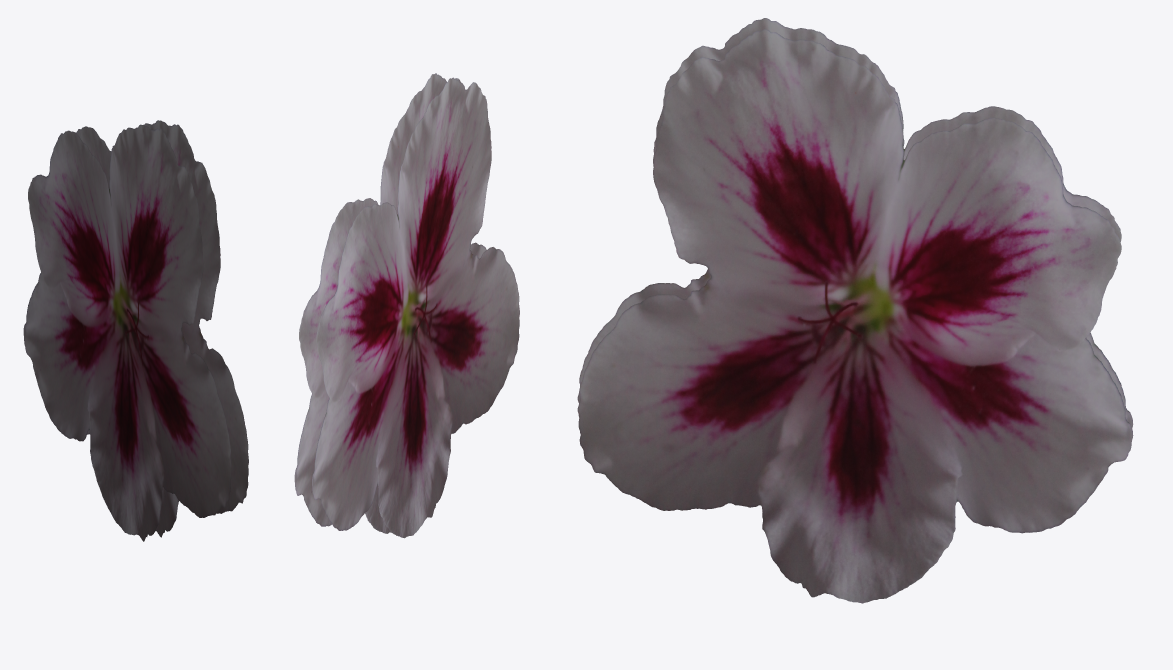
File: flower_1.dae
3 renders of one model, left to right at view 1: azimuth 30°, elevation 25°; view 2: azimuth 150°, elevation 25°; view 3: azimuth 270°, elevation 25°, orthographic. The views are drawn at different scales.
Parts seen in each view (by area): view 1: pCube1; view 2: pCube1; view 3: pCube1.
Part boxes in pixels (box(x1,y1,x2,y2)): pCube1: box(23, 120, 248, 541); pCube1: box(294, 73, 519, 538); pCube1: box(577, 18, 1133, 603).
Bounding box in the file's own units: 0.2 × 5.2 × 4.5.
Materials: 1 (1 with a texture image).
